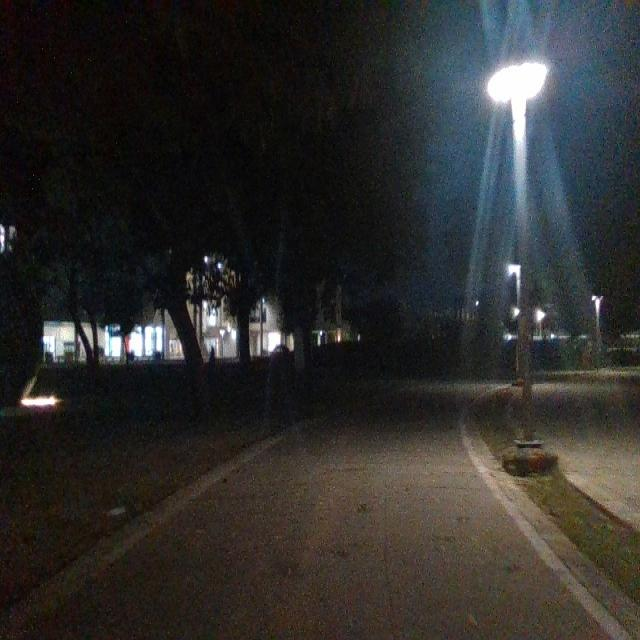lane: (18, 383, 614, 640)
